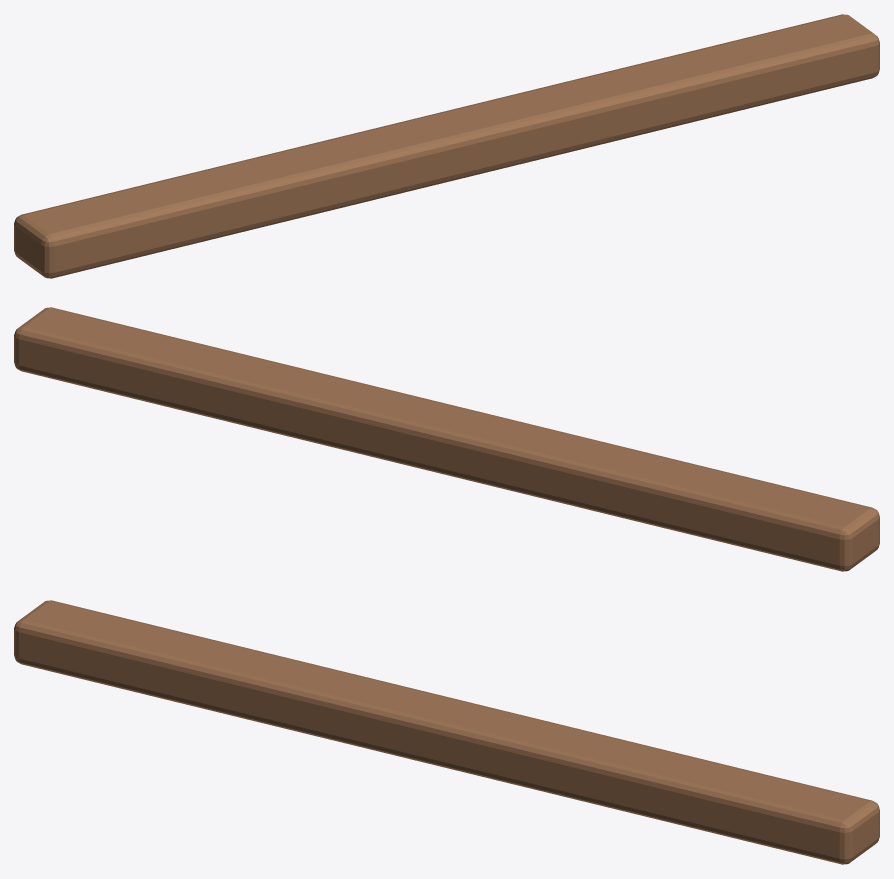
Rendered from SM_UI_SliderTrack.fbx.
3 renders of one model, top to bottom at view 1: azimuth 30°, elevation 25°; view 2: azimuth 150°, elevation 25°; view 3: azimuth 330°, elevation 25°, orthographic.
Visible parts, largest first — view 1: SM_UI_SliderTrack; view 2: SM_UI_SliderTrack; view 3: SM_UI_SliderTrack.
Part boxes in pixels (x1,y1,x2,y2): SM_UI_SliderTrack: (14,14,879,278); SM_UI_SliderTrack: (14,307,879,571); SM_UI_SliderTrack: (14,600,879,864).
Bounding box in the file's own units: 3 × 0.15 × 0.22.
